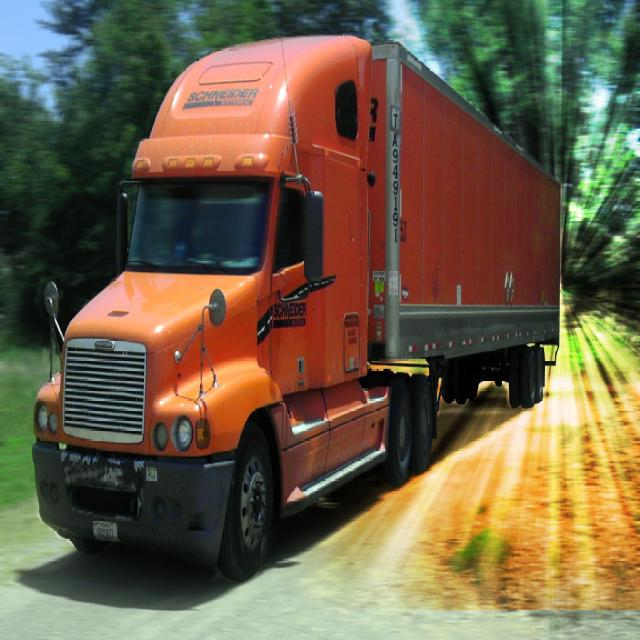Heavy Duty Truck: (32, 34, 561, 584)
